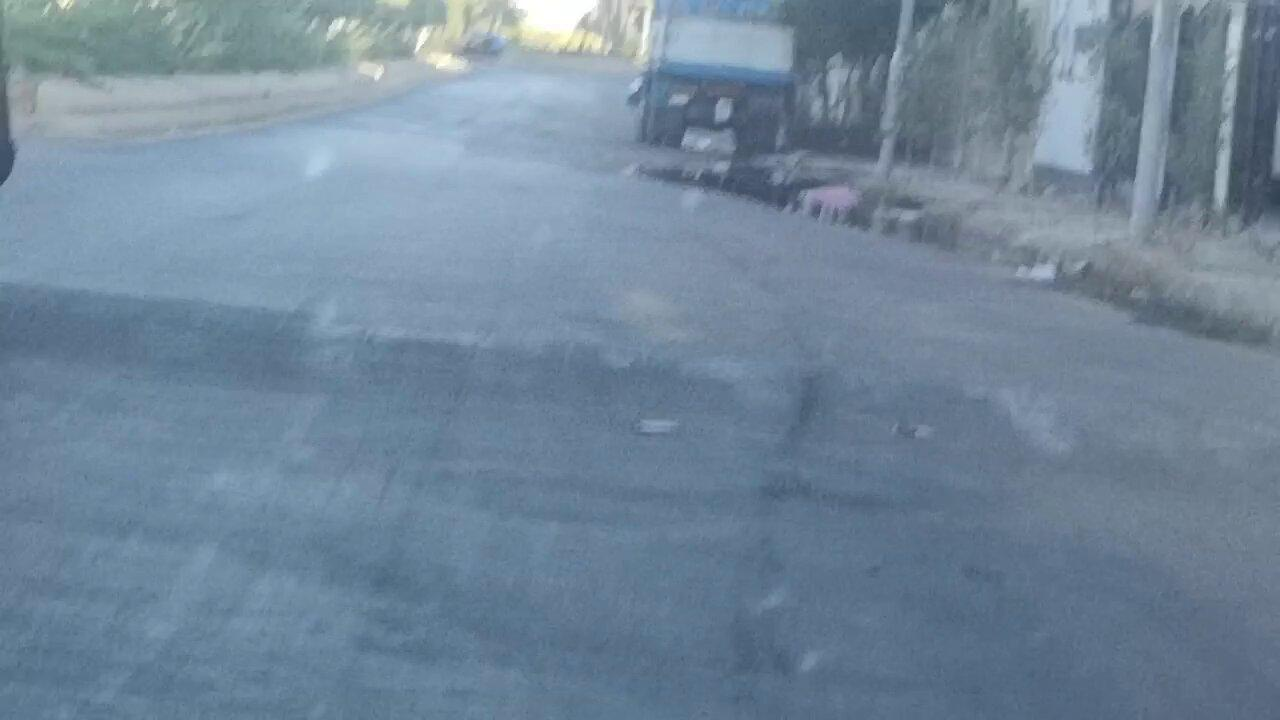Bump: (8, 283, 1255, 492)
